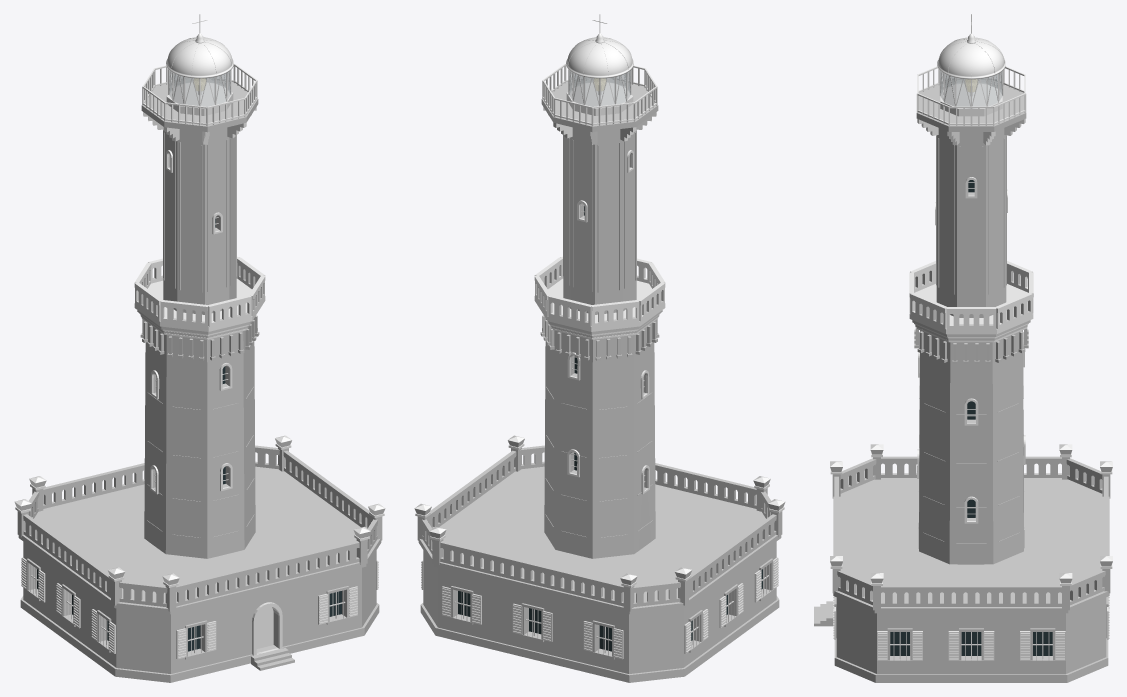
Rendered from Faro_Punta_Nador_GoogleMaps.glb.
3 views of the same model, side by side, from view 1: azimuth 30°, elevation 25°; view 2: azimuth 150°, elevation 25°; view 3: azimuth 270°, elevation 25° (orthographic).
Visible parts, largest first — view 1: 10 Tour | prisme octogonal inferieur, 03 Corniche du toit, 01 Batiment | plan a pans coupes HYPOTHESE, 20 Tour | prisme octogonal superieur, 02 Soubassement, 43 Balustrade toiture panneau, 21 Galerie superieure, V03 Coupole cintree, 43 Balustrade toiture panneau.004, 30 Soubassement lanterne, 12 Terrasse intermediaire, 43 Balustrade toiture panneau.006 (+10 smaller); view 2: 10 Tour | prisme octogonal inferieur, 03 Corniche du toit, 01 Batiment | plan a pans coupes HYPOTHESE, 20 Tour | prisme octogonal superieur, 02 Soubassement, 43 Balustrade toiture panneau.004, 21 Galerie superieure, V03 Coupole cintree, 43 Balustrade toiture panneau, 30 Soubassement lanterne, 12 Terrasse intermediaire, 43 Balustrade toiture panneau.006 (+8 smaller); view 3: 10 Tour | prisme octogonal inferieur, 03 Corniche du toit, 01 Batiment | plan a pans coupes HYPOTHESE, 20 Tour | prisme octogonal superieur, 02 Soubassement, 21 Galerie superieure, 43 Balustrade toiture panneau.002, V03 Coupole cintree, 30 Soubassement lanterne, 12 Terrasse intermediaire, 43 Balustrade toiture couronnement.002, 43 Balustrade toiture panneau.006 (+11 smaller).
Boxes of the visible parts, x1,y1,x2,y2 form: 10 Tour | prisme octogonal inferieur: [144, 319, 255, 558]; 03 Corniche du toit: [18, 466, 381, 614]; 01 Batiment | plan a pans coupes HYPOTHESE: [23, 541, 376, 673]; 20 Tour | prisme octogonal superieur: [163, 127, 236, 314]; 02 Soubassement: [20, 596, 379, 682]; 43 Balustrade toiture panneau: [176, 547, 359, 606]; 21 Galerie superieure: [141, 78, 258, 132]; V03 Coupole cintree: [166, 37, 233, 78]; 43 Balustrade toiture panneau.004: [43, 469, 144, 508]; 30 Soubassement lanterne: [166, 81, 233, 115]; 12 Terrasse intermediaire: [134, 278, 265, 331]; 43 Balustrade toiture panneau.006: [23, 520, 110, 597]; 10 Tour | prisme octogonal inferieur: [544, 319, 655, 558]; 03 Corniche du toit: [418, 466, 781, 614]; 01 Batiment | plan a pans coupes HYPOTHESE: [423, 541, 776, 673]; 20 Tour | prisme octogonal superieur: [563, 127, 636, 314]; 02 Soubassement: [420, 596, 779, 682]; 43 Balustrade toiture panneau.004: [440, 547, 623, 606]; 21 Galerie superieure: [541, 78, 658, 132]; V03 Coupole cintree: [566, 37, 633, 78]; 43 Balustrade toiture panneau: [655, 469, 756, 508]; 30 Soubassement lanterne: [566, 81, 633, 115]; 12 Terrasse intermediaire: [534, 278, 665, 331]; 43 Balustrade toiture panneau.006: [689, 520, 776, 597]; 10 Tour | prisme octogonal inferieur: [918, 330, 1024, 564]; 03 Corniche du toit: [833, 478, 1109, 613]; 01 Batiment | plan a pans coupes HYPOTHESE: [836, 597, 1106, 674]; 20 Tour | prisme octogonal superieur: [936, 128, 1006, 317]; 02 Soubassement: [834, 638, 1108, 682]; 21 Galerie superieure: [916, 80, 1026, 131]; 43 Balustrade toiture panneau.002: [881, 591, 1061, 606]; V03 Coupole cintree: [937, 37, 1005, 79]; 30 Soubassement lanterne: [940, 83, 1002, 116]; 12 Terrasse intermediaire: [909, 284, 1033, 334]; 43 Balustrade toiture couronnement.002: [881, 585, 1061, 591]; 43 Balustrade toiture panneau.006: [881, 463, 1061, 477].
Bounding box in the file's own units: 16.48 × 34.55 × 15.51.
